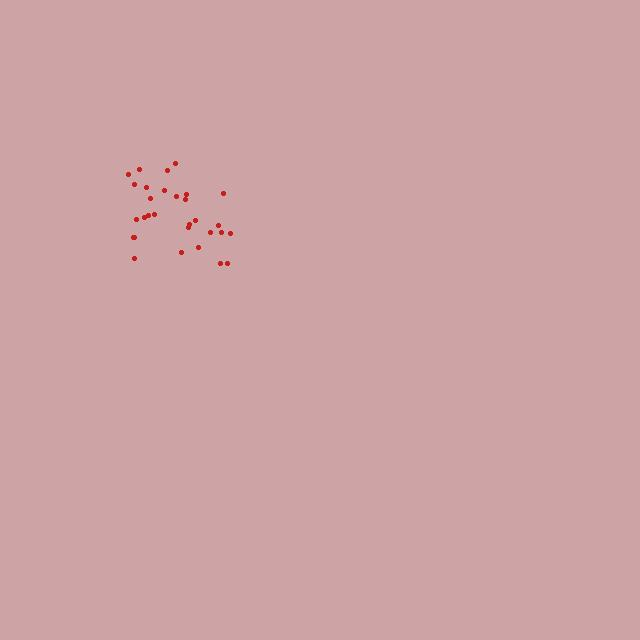abrasion: (127, 163, 231, 267)
